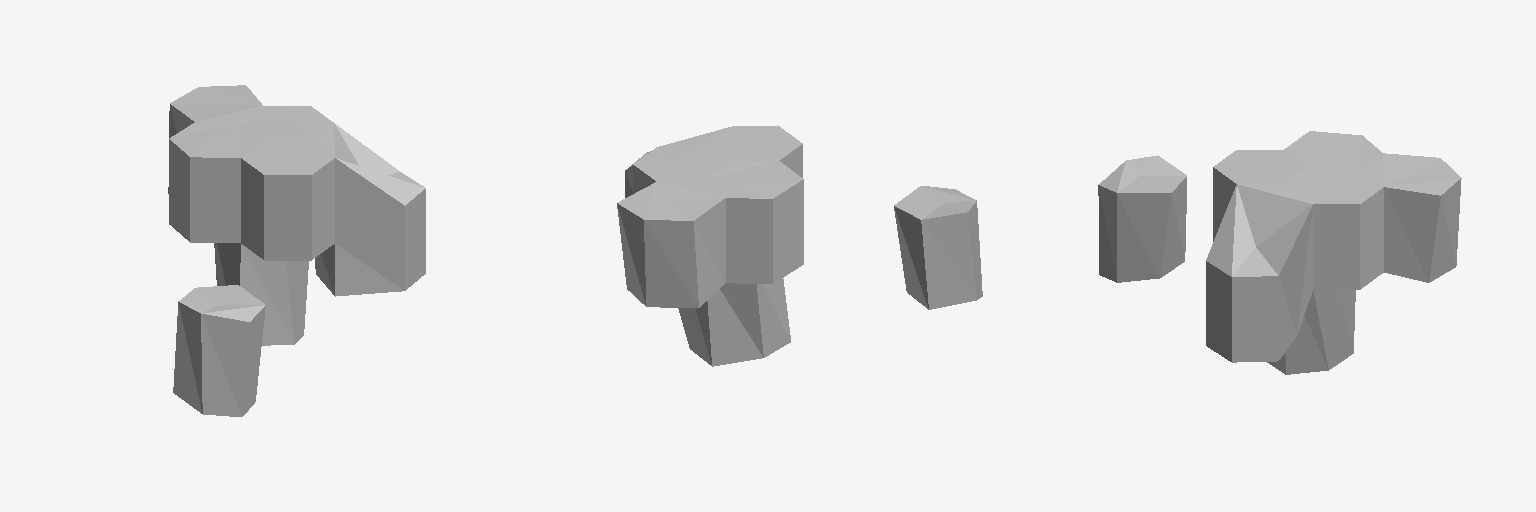
The model's file is hex5.1.obj.
The picture shows the model from 3 angles: view 1: azimuth 30°, elevation 25°; view 2: azimuth 150°, elevation 25°; view 3: azimuth 270°, elevation 25°; orthographic projection.
Visible parts, largest first — view 1: base1.001, base1, top-cell.001, base2, top-cell.002, top-cell, base3; view 2: top-cell, base2, top-cell.001, top-cell.002, base3, base1, base1.001; view 3: base1.001, top-cell.001, top-cell, base3, top-cell.002, base1, base2.
Part boxes in pixels (left/top/right/bottom): base1.001: left=312, top=123, right=425, bottom=296; base1: left=241, top=141, right=334, bottom=260; top-cell.001: left=173, top=285, right=265, bottom=416; base2: left=169, top=122, right=263, bottom=242; top-cell.002: left=214, top=243, right=308, bottom=345; top-cell: left=168, top=85, right=262, bottom=193; base3: left=242, top=106, right=333, bottom=140; top-cell: left=617, top=180, right=725, bottom=307; base2: left=705, top=161, right=803, bottom=284; top-cell.001: left=894, top=186, right=982, bottom=309; top-cell.002: left=678, top=278, right=790, bottom=366; base3: left=633, top=144, right=731, bottom=193; base1: left=709, top=126, right=802, bottom=177; base1.001: left=625, top=127, right=730, bottom=197; base1.001: left=1206, top=184, right=1312, bottom=362; top-cell.001: left=1098, top=155, right=1186, bottom=282; top-cell: left=1358, top=153, right=1461, bottom=282; base3: left=1284, top=167, right=1383, bottom=289; top-cell.002: left=1267, top=290, right=1355, bottom=374; base1: left=1213, top=150, right=1306, bottom=241; base2: left=1284, top=131, right=1382, bottom=169.
Size of the model in its own units: 7.16 by 4.7 by 7.71.